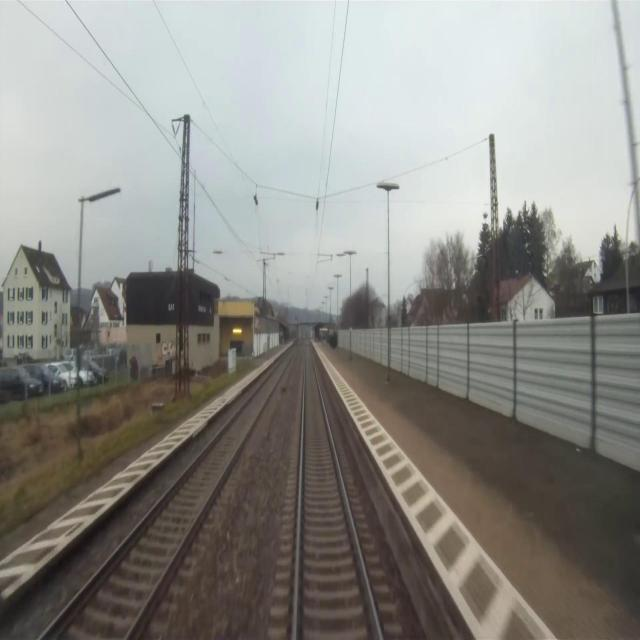rail-track: (42, 355, 289, 639), (296, 344, 379, 639)
